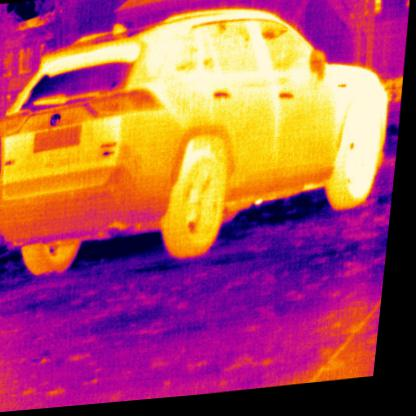vehicle: (0, 0, 402, 280)
